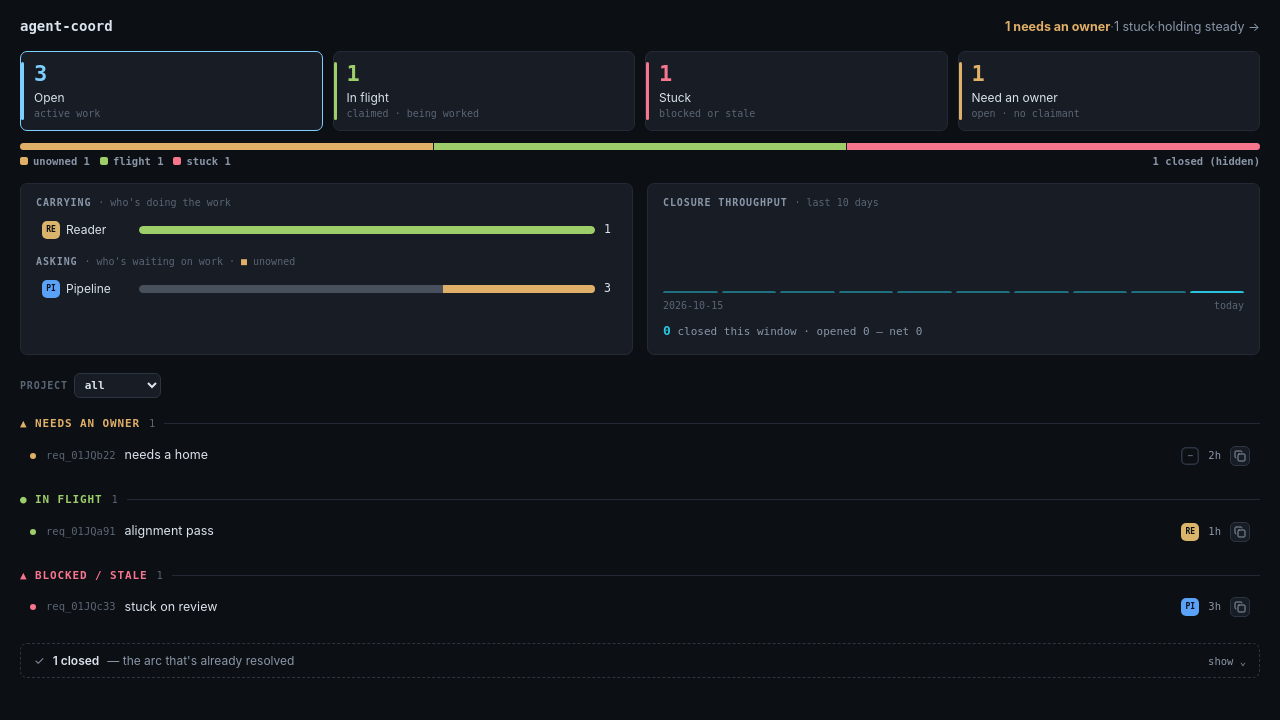
Test: Board — grouped work lists + done fold › clicking the done fold reveals the DONE tickets
Click the button with test id "board-done-fold" at (76, 661), box [20,643,1260,678]
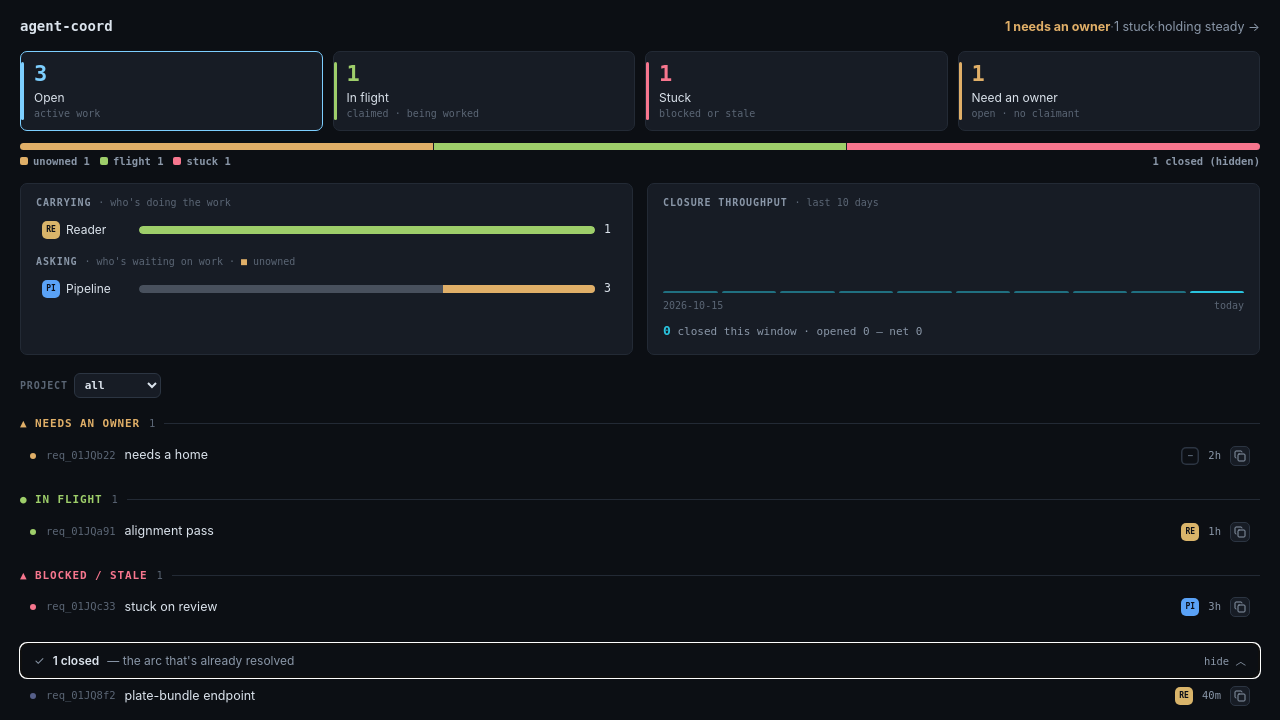
Now the text "plate-bundle endpoint" is shown, box [124,688,255,703]
